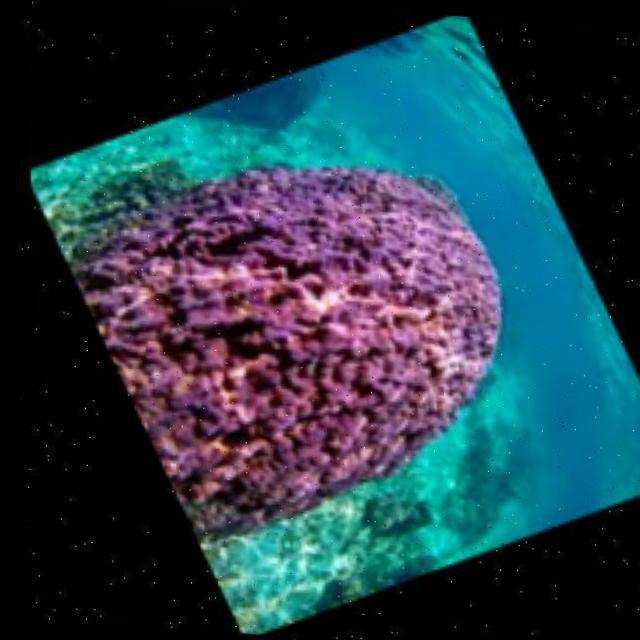Healthy Coral: (49, 145, 514, 557)
